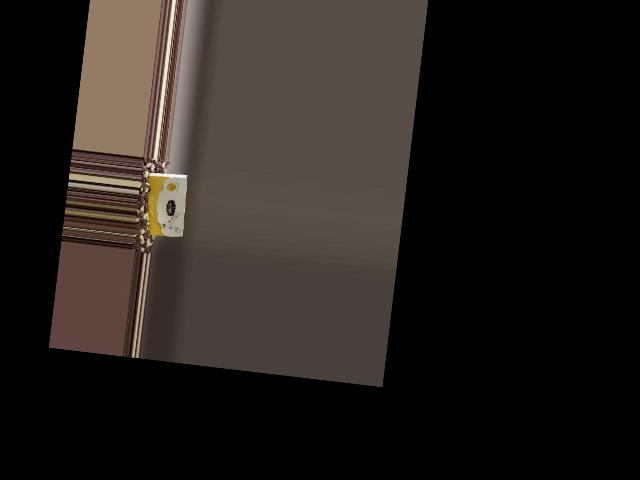chocolate: (139, 167, 192, 242)
